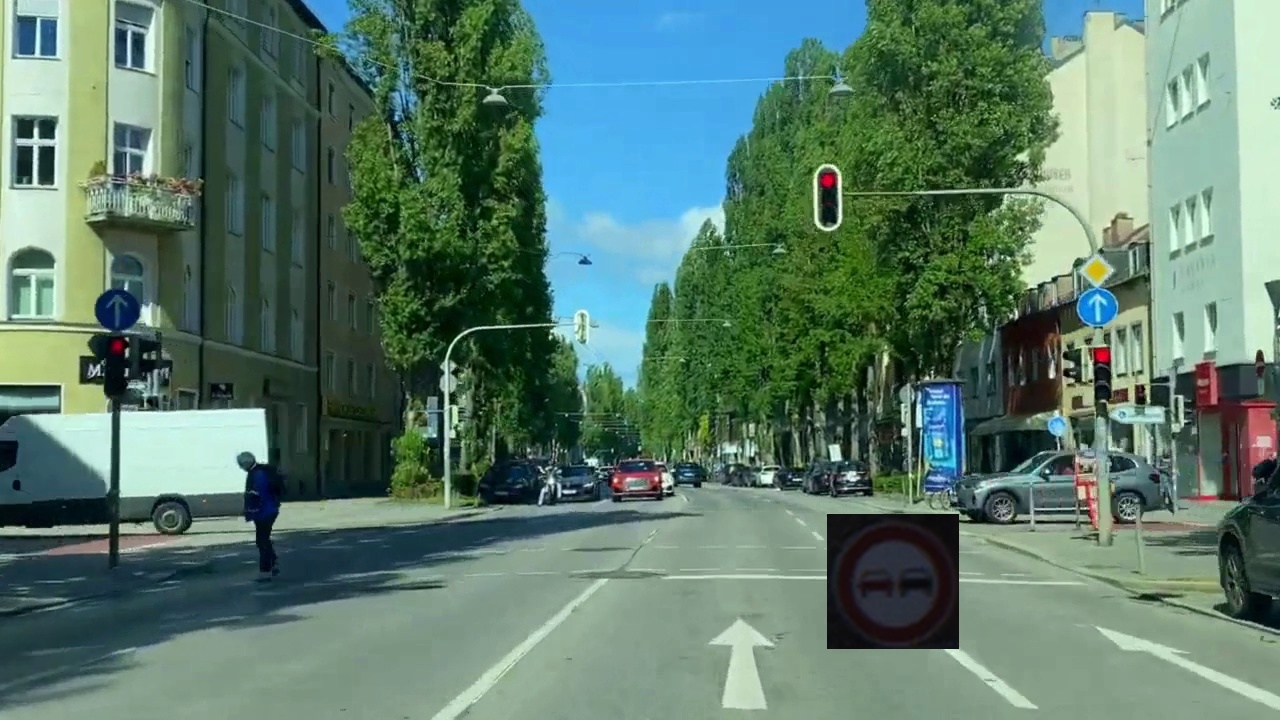No passing: (827, 514, 959, 649)
